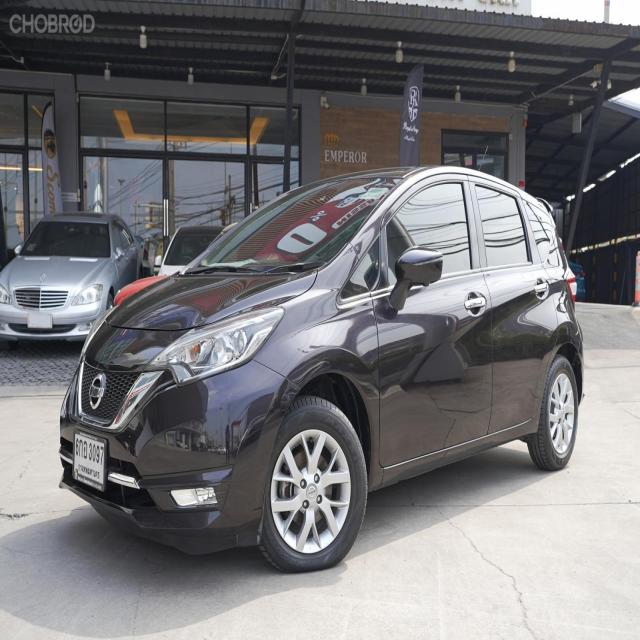license_plate: (65, 430, 114, 501)
